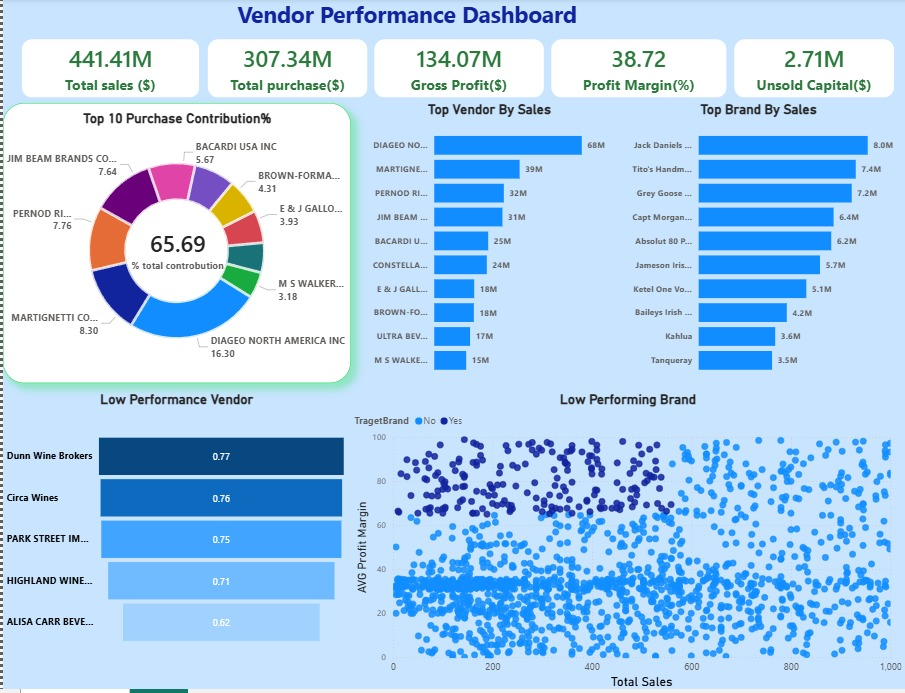

What the dashboard file says about the page in this screenshot:
{"tool":"powerbi","page":{"name":"page1","canvas":[1280,1000],"ordinal":0},"visuals":[{"type":"cardVisual","fields":{"Data":["Sum(vendor_sales_summary_filtered.totalsalesdollars)"]},"box":[22.3,57.3,262.5,93.8],"z":0},{"type":"cardVisual","fields":{"Data":["Sum(vendor_sales_summary_filtered.UnsoldCapital)"]},"box":[1032.3,57.3,237,93.8],"z":2},{"type":"cardVisual","fields":{"Data":["Sum(vendor_sales_summary_filtered.totalpurchasedollars)"]},"box":[284.7,57.3,237,93.8],"z":3},{"type":"cardVisual","fields":{"Data":["Sum(vendor_sales_summary_filtered.GrossProfit)"]},"box":[521.7,57.3,251.3,93.8],"z":4},{"type":"cardVisual","fields":{"Data":["Avg(vendor_sales_summary_filtered.ProfitMargin)"]},"box":[773,57.3,259.3,93.8],"z":5},{"type":"textbox","box":[198.8,0,750.8,57.3],"z":6},{"type":"donutChart","title":"Top 10 Purchase Contribution%","fields":{"Category":["PurchaseContribution.vendorname"],"Y":["Sum(PurchaseContribution.PurchaseContribution%)"]},"box":[0,152.7,493.1,397.7],"z":7},{"type":"cardVisual","fields":{"Data":["PurchaseContribution.Top 10 Total"]},"box":[122.5,273.6,249.7,173.4],"z":8},{"type":"clusteredBarChart","title":"Top Vendor By Sales","fields":{"Category":["PurchaseContribution.vendorname"],"Y":["Sum(vendor_sales_summary_filtered.totalsalesdollars)"]},"box":[507.4,151.1,367.4,399.2],"z":9},{"type":"clusteredBarChart","title":"Top Brand By Sales","fields":{"Y":["Sum(vendor_sales_summary_filtered.totalsalesdollars)"],"Category":["vendor_sales_summary_filtered.description"]},"box":[874.8,151.1,394.5,399.2],"z":10},{"type":"funnel","title":"Low Performance Vendor","fields":{"Category":["LowturnoverVendor.vendorname"],"Y":["Avg(LowturnoverVendor.AVGStockTurnOver)"]},"box":[0,561,493,398],"z":11},{"type":"scatterChart","title":"Low Performing Brand","fields":{"Category":["BrandPerformance.description"],"X":["Sum(BrandPerformance.TotalSales)"],"Y":["Sum(BrandPerformance.AVGProfitMarging)"],"Series":["BrandPerformance.TragetBrand"]},"box":[493.8,560.9,785.9,426.6],"z":12}]}

Visuals, with their boxes in screenshot pixels (x1, y1, x2, y2), scaled from the page's 1280x1000 canvas onto the 905x693 screenshot:
cardVisual - Sum(vendor_sales_summary_filtered.totalsalesdollars): region(16, 40, 201, 105)
cardVisual - Sum(vendor_sales_summary_filtered.UnsoldCapital): region(730, 40, 897, 105)
cardVisual - Sum(vendor_sales_summary_filtered.totalpurchasedollars): region(201, 40, 369, 105)
cardVisual - Sum(vendor_sales_summary_filtered.GrossProfit): region(369, 40, 547, 105)
cardVisual - Avg(vendor_sales_summary_filtered.ProfitMargin): region(547, 40, 730, 105)
textbox: region(141, 0, 671, 40)
"Top 10 Purchase Contribution%" donutChart: region(0, 106, 349, 381)
cardVisual - PurchaseContribution.Top 10 Total: region(87, 190, 263, 310)
"Top Vendor By Sales" clusteredBarChart: region(359, 105, 619, 381)
"Top Brand By Sales" clusteredBarChart: region(619, 105, 897, 381)
"Low Performance Vendor" funnel: region(0, 389, 349, 665)
"Low Performing Brand" scatterChart: region(349, 389, 904, 684)
